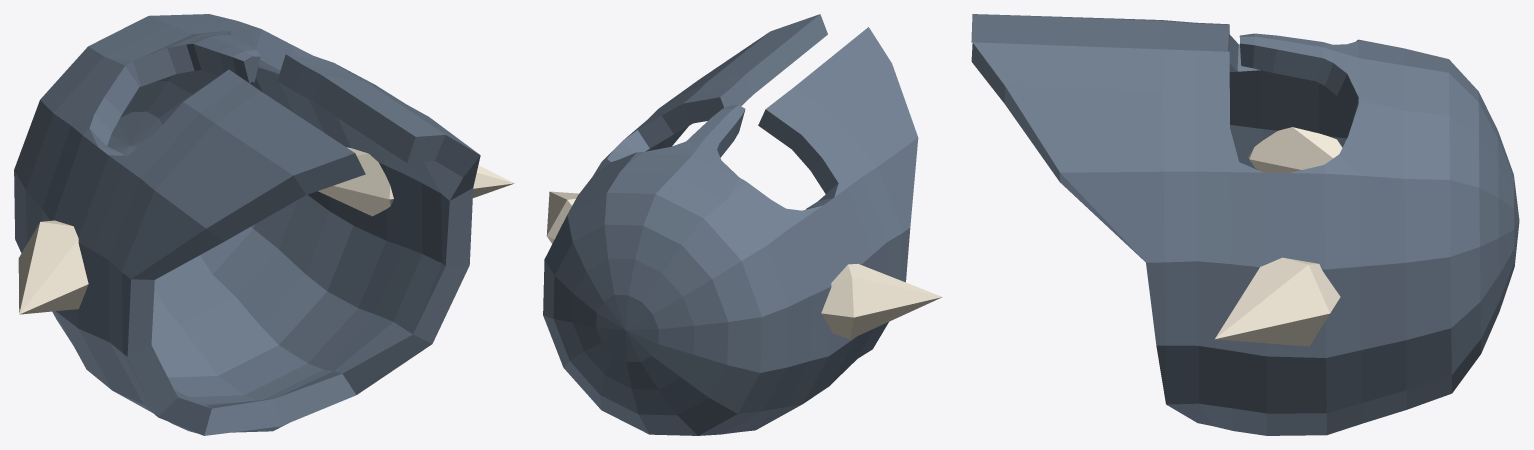
Rendered from hat_viking.glb.
3 views of the same model, side by side, from view 1: azimuth 30°, elevation 25°; view 2: azimuth 150°, elevation 25°; view 3: azimuth 270°, elevation 25° (orthographic). The views are drawn at different scales.
Visible parts, largest first — view 1: Hat_hat_viking_Helmet2, Hat_hat_viking_Crystal3, Hat_hat_viking_Crystal3.001; view 2: Hat_hat_viking_Helmet2, Hat_hat_viking_Crystal3, Hat_hat_viking_Crystal3.001; view 3: Hat_hat_viking_Helmet2, Hat_hat_viking_Crystal3.001, Hat_hat_viking_Crystal3.
Boxes of the visible parts, <box> form: Hat_hat_viking_Helmet2: <box>14,14,480,435</box>; Hat_hat_viking_Crystal3: <box>18,220,88,314</box>; Hat_hat_viking_Crystal3.001: <box>318,147,514,216</box>; Hat_hat_viking_Helmet2: <box>543,14,918,435</box>; Hat_hat_viking_Crystal3: <box>821,264,942,339</box>; Hat_hat_viking_Crystal3.001: <box>546,191,578,243</box>; Hat_hat_viking_Helmet2: <box>971,14,1519,435</box>; Hat_hat_viking_Crystal3.001: <box>1215,257,1340,346</box>; Hat_hat_viking_Crystal3: <box>1248,127,1342,172</box>.
Bounding box in the file's own units: 0.9835 × 0.7337 × 0.9387.
